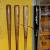baseball bat: (32, 4, 41, 50), (4, 4, 12, 50), (13, 5, 21, 50), (22, 5, 30, 50)
